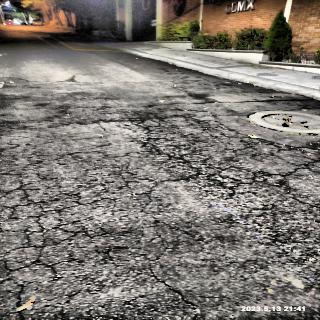alligator-crack: (131, 104, 320, 232), (0, 115, 123, 295)
